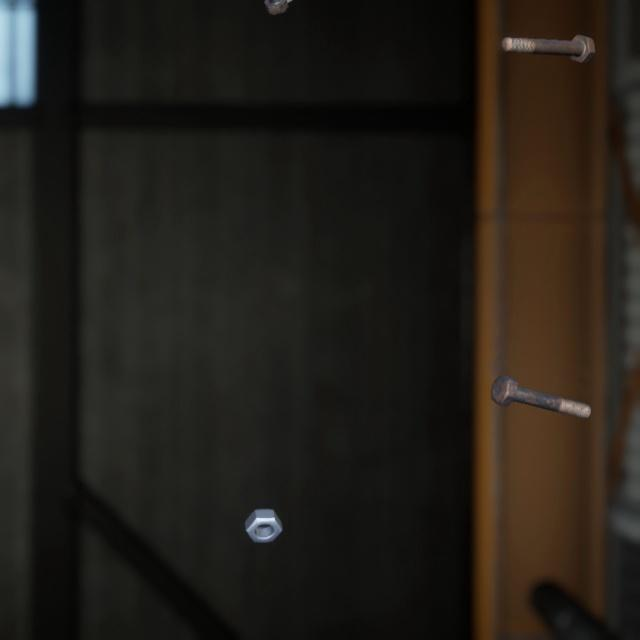bolt: (486, 350, 595, 404), (496, 21, 599, 58)
nut: (240, 482, 287, 524)
